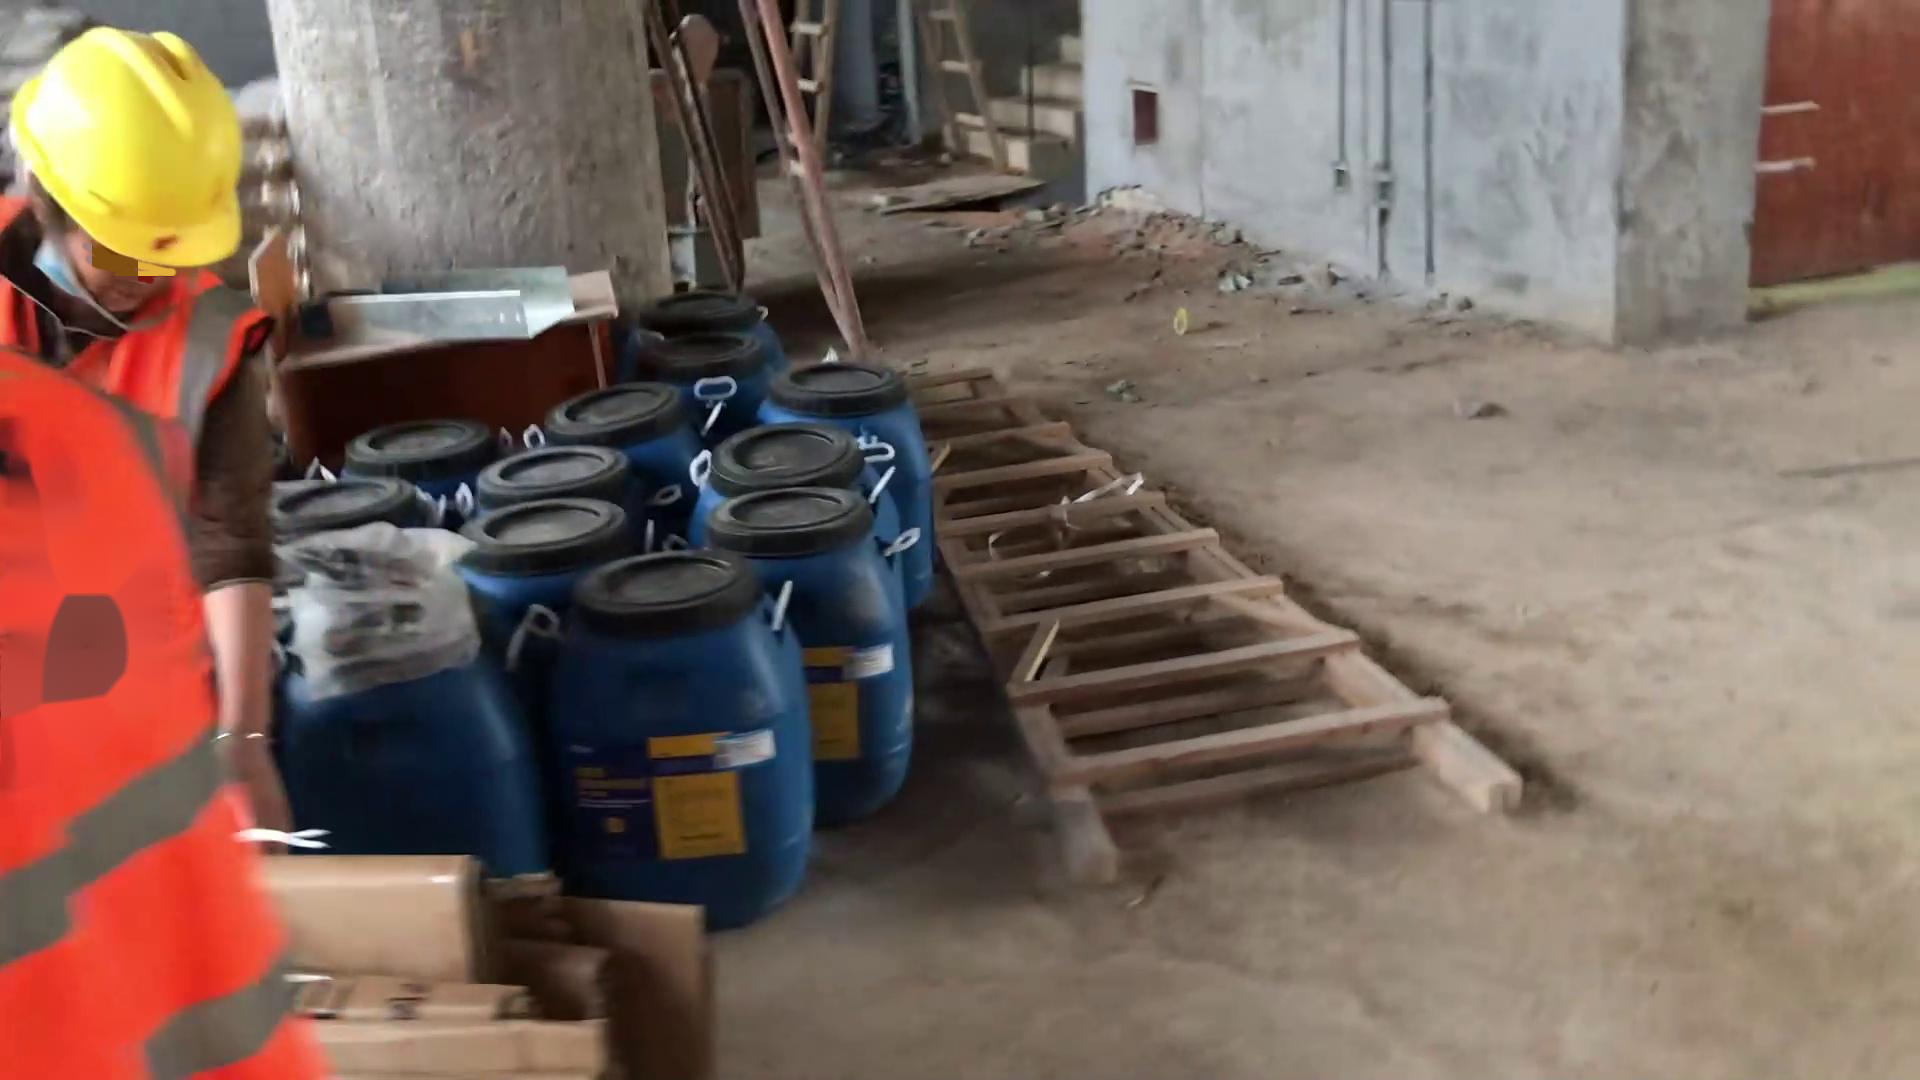helmet: (10, 26, 278, 269)
person: (11, 2, 358, 832)
vest: (3, 358, 328, 1080)
